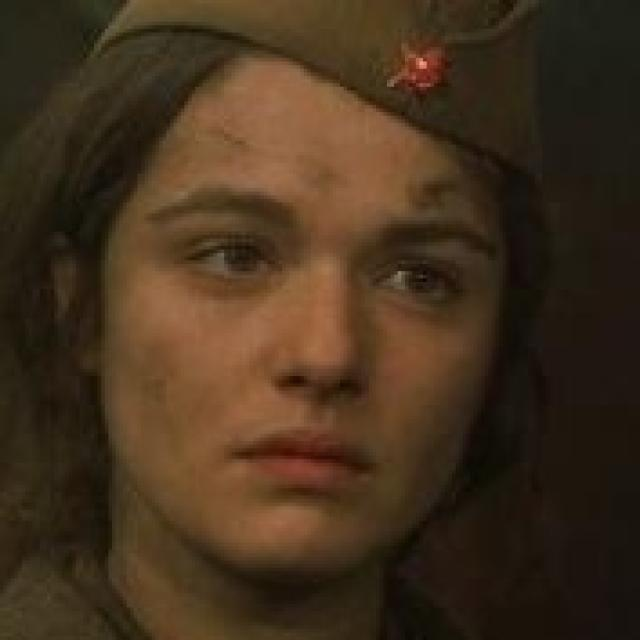Depress: (99, 58, 505, 588)
